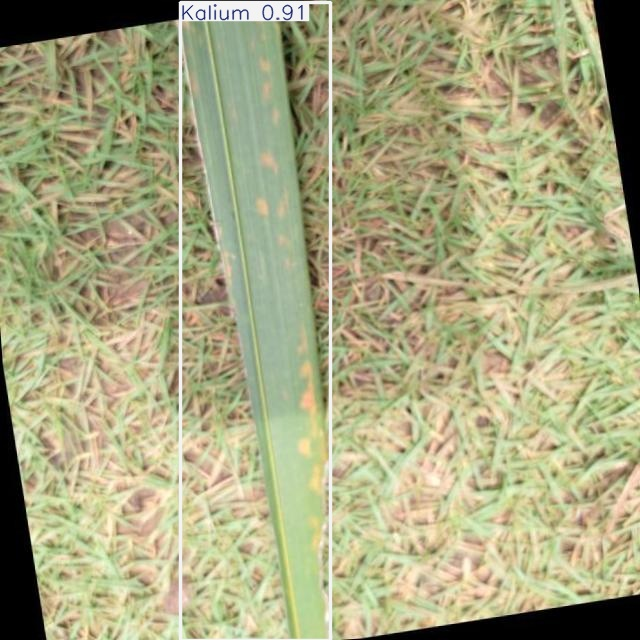Kalium: (180, 2, 331, 640)
